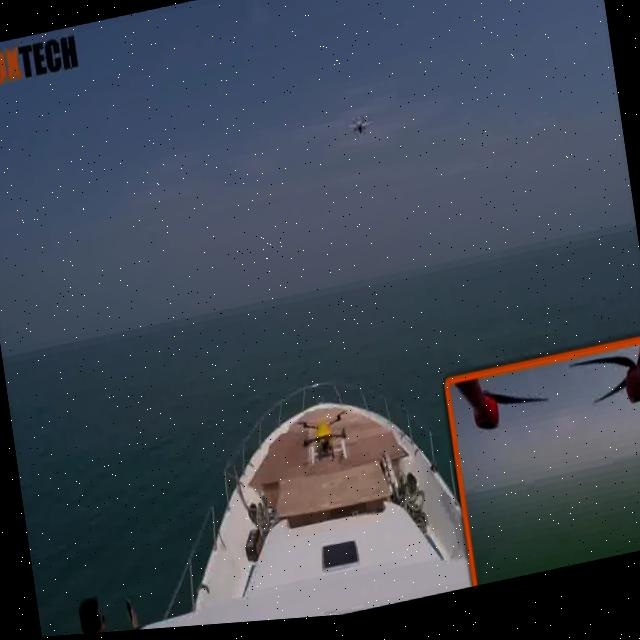drone: (282, 389, 366, 487), (337, 108, 378, 155)
